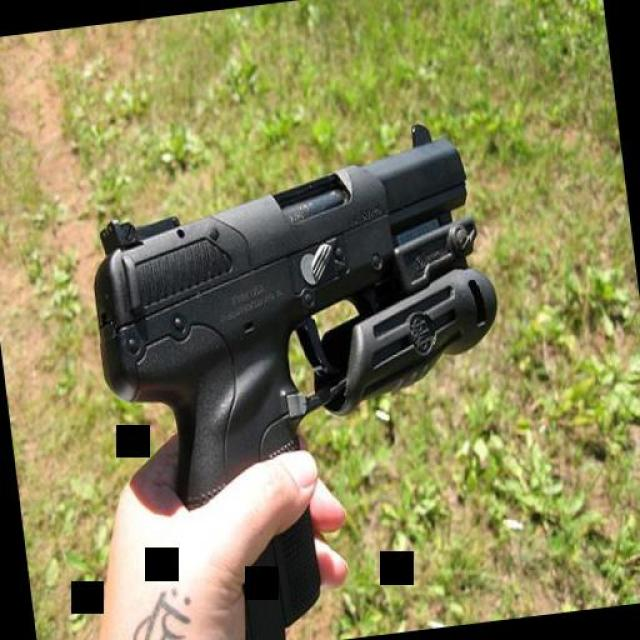gun: (74, 115, 535, 640)
